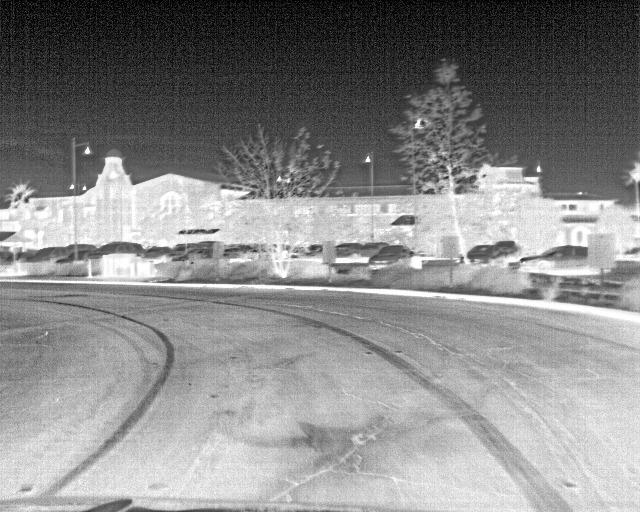car: (527, 245, 587, 272), (91, 240, 149, 257), (22, 245, 71, 262), (464, 243, 507, 262), (492, 238, 523, 262), (369, 244, 408, 262), (57, 248, 97, 265), (193, 240, 226, 257), (334, 242, 364, 257), (169, 241, 197, 257)
